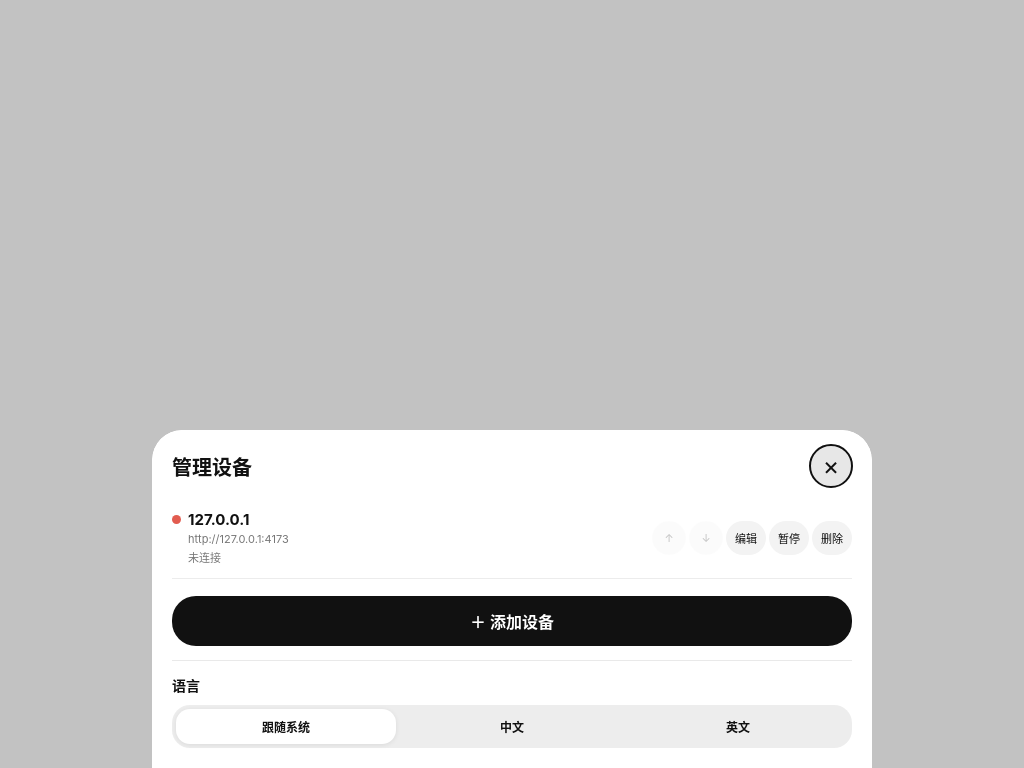
多语言基础设施 › 设备设置可以切换为英文并立即更新全部设置文案
The width and height of the screenshot is (1024, 768).
What coordinates should you click on to do the following:
click the button "英文"
I would click on:
 (738, 726)
Its box is left=628, top=709, right=848, bottom=744.
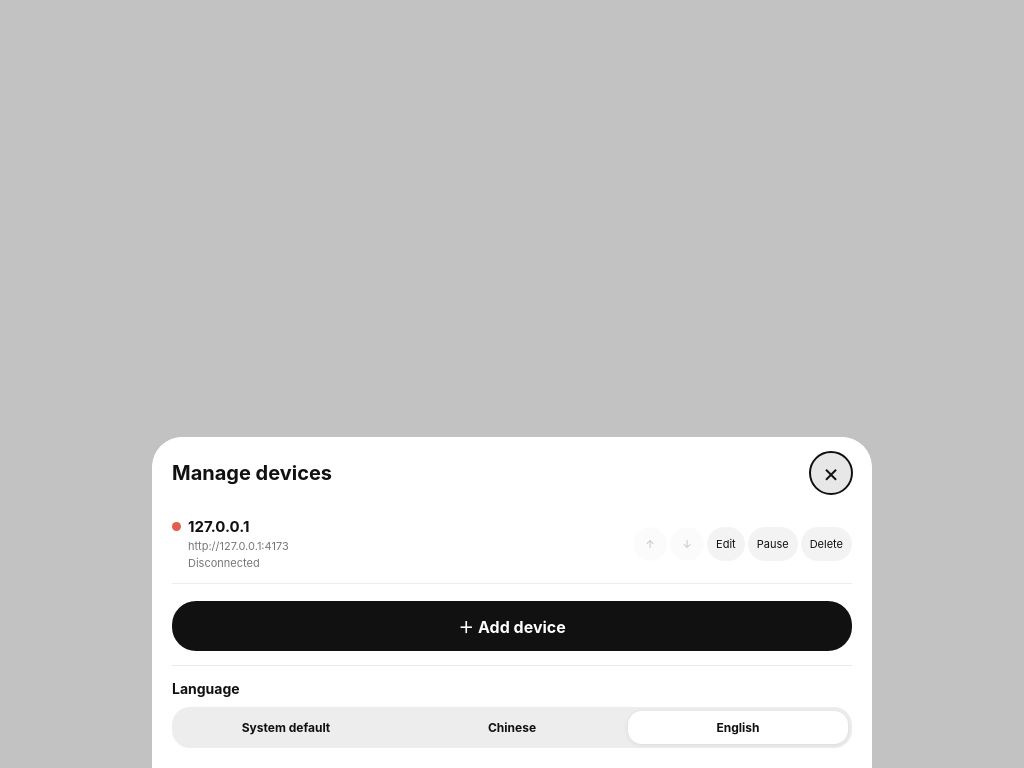
Expected: the text "Language" is shown, left=172, top=680, right=240, bottom=697
Expected: the button "English" is shown, left=628, top=711, right=848, bottom=744
Expected: the button "＋ Add device" is shown, left=172, top=601, right=852, bottom=651
